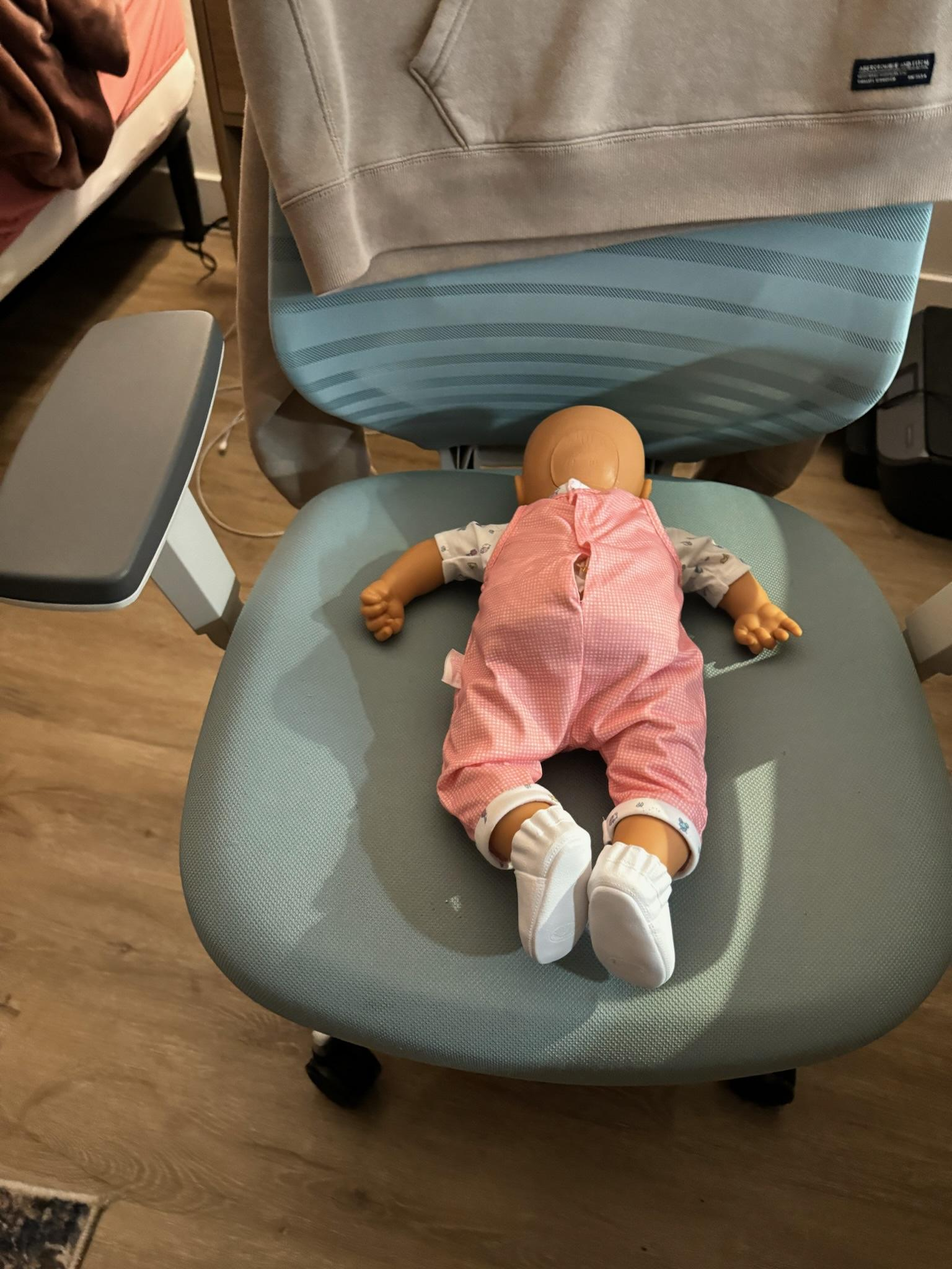baby: (357, 394, 814, 989)
